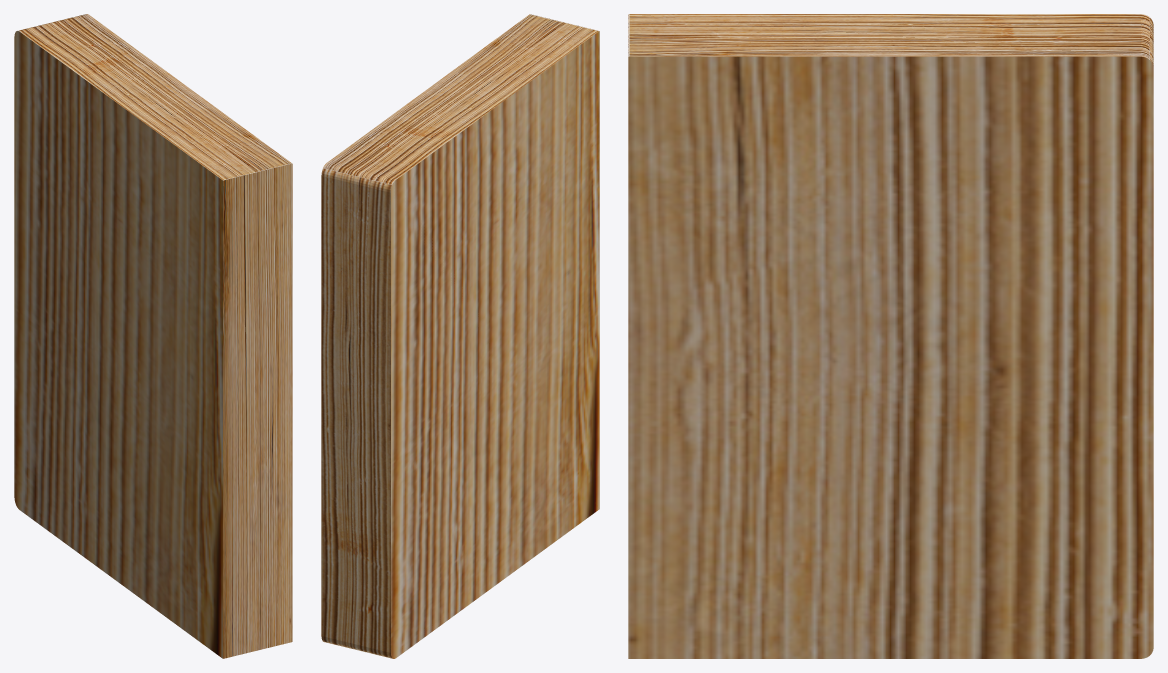
File: bookpages4.fbx
3 renders of one model, left to right at view 1: azimuth 30°, elevation 25°; view 2: azimuth 150°, elevation 25°; view 3: azimuth 270°, elevation 25°, orthographic. The views are drawn at different scales.
Visible parts, largest first — view 1: Cube.001; view 2: Cube.001; view 3: Cube.001.
Part boxes in pixels (x1,y1,x2,y2): Cube.001: [14, 14, 292, 658]; Cube.001: [321, 14, 599, 658]; Cube.001: [628, 14, 1153, 658].
Size of the model in its own units: 29.93 by 197 by 156.
Materials: 1 (1 with a texture image).
